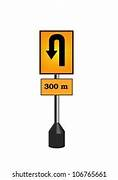back: (38, 29, 75, 76)
